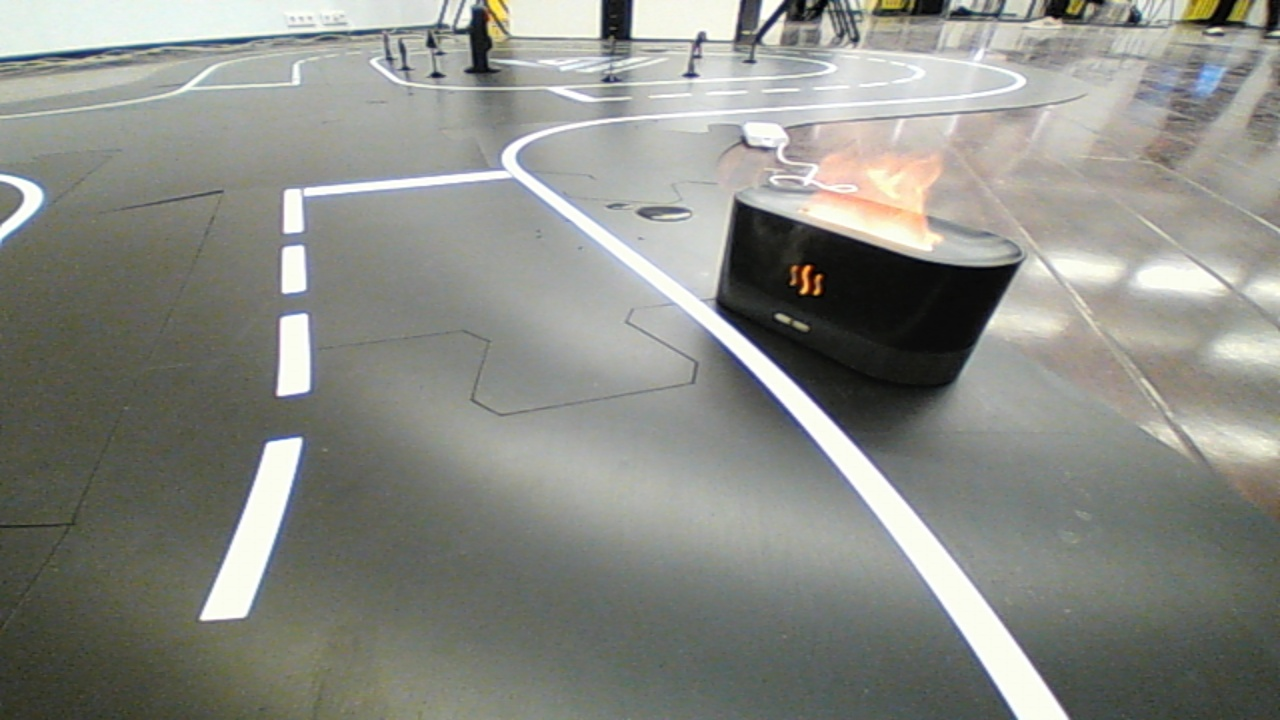Movement prohibition: (694, 171, 1044, 400)
